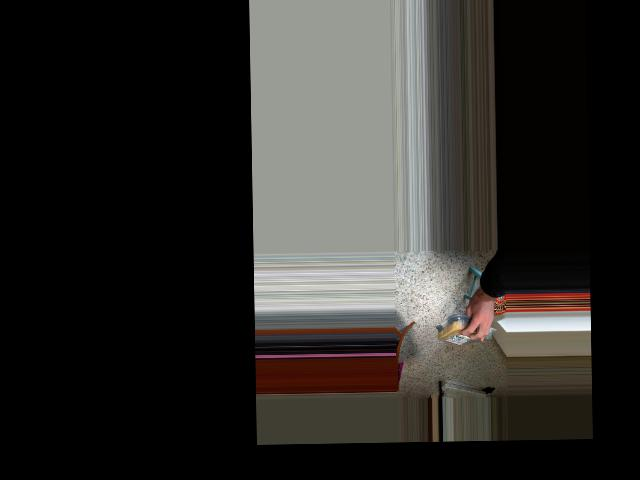cheese: (436, 318, 488, 344)
